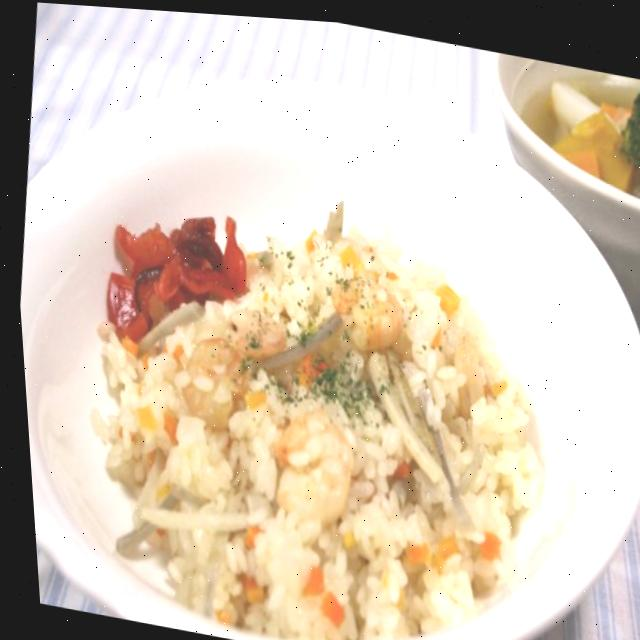米饭主食: (2, 37, 624, 640)
